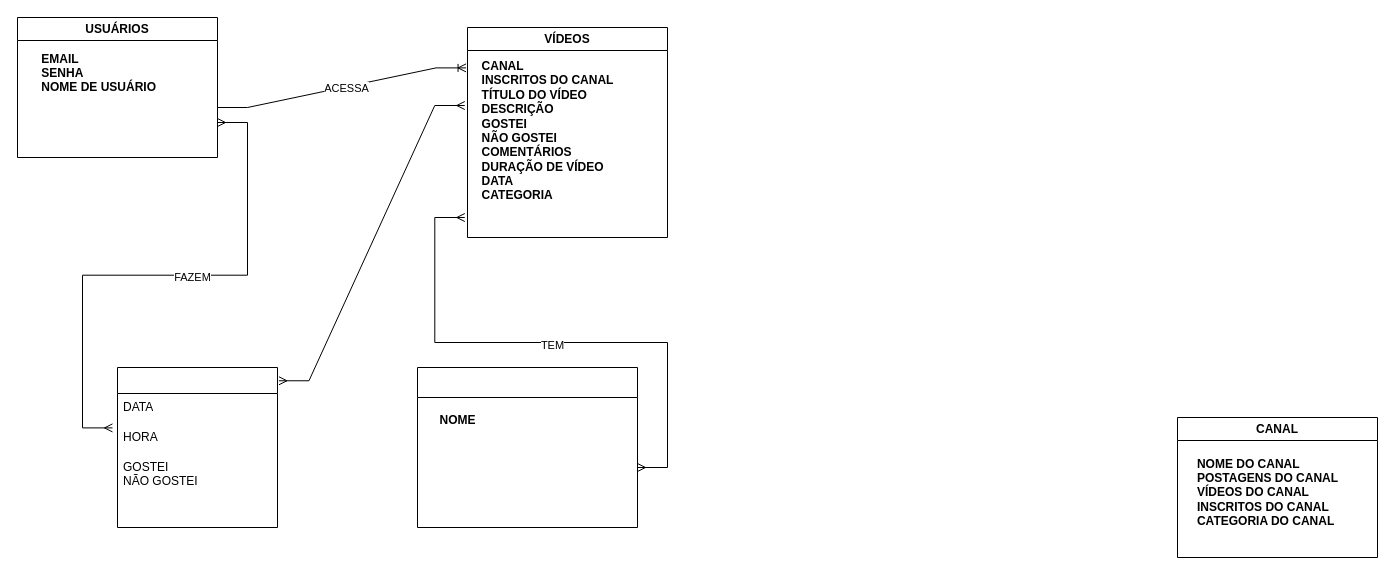
Some shapes in this 1395 by 575 pixel diagram are drawn without their labels. The shapes that lost their labels are listed below. From the top down, each one's box as (x1, y1, x2, y2) in pixels, then its label:
(116, 366, 278, 528): COMENTÁRIOS
(416, 366, 638, 528): CATEGORIAS
